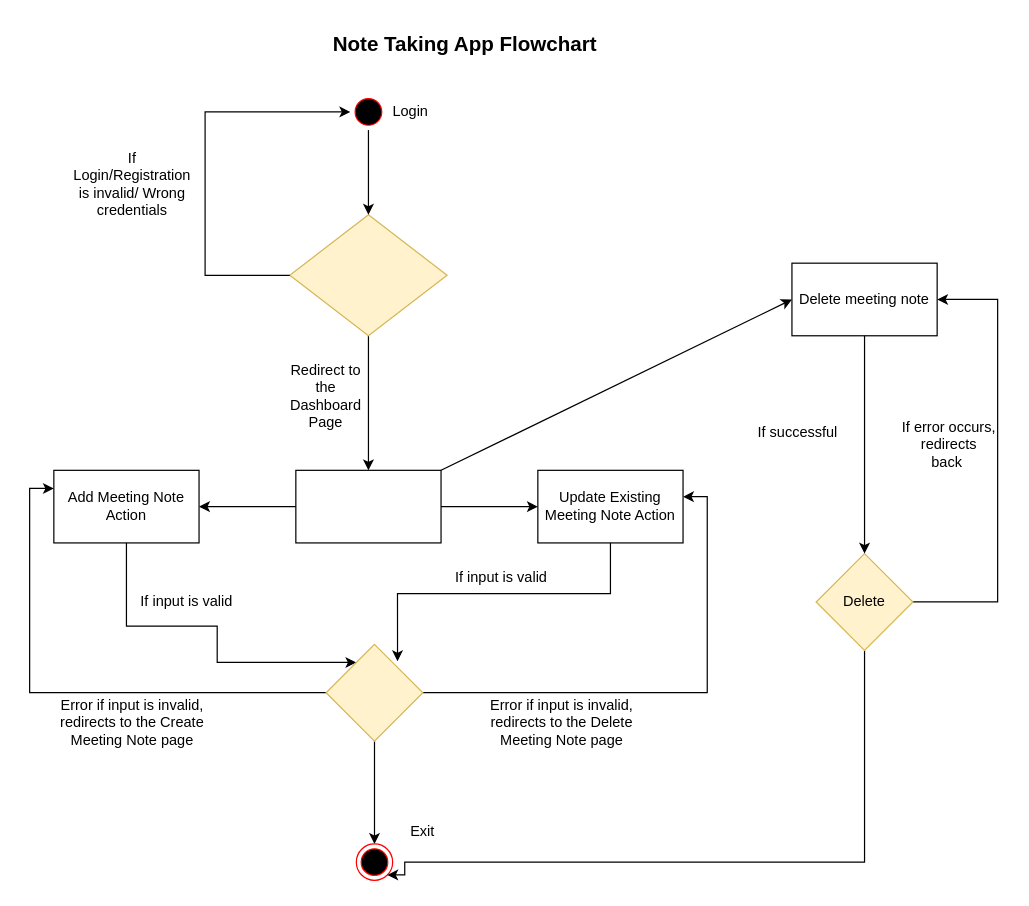
This 1029x906 diagram has some shape labels left out. The centre of each missing label's shape, as x and y in pixels:
Authentication: pixel 368 275
Dashboard Page: pixel 368 506
Save: pixel 374 692
